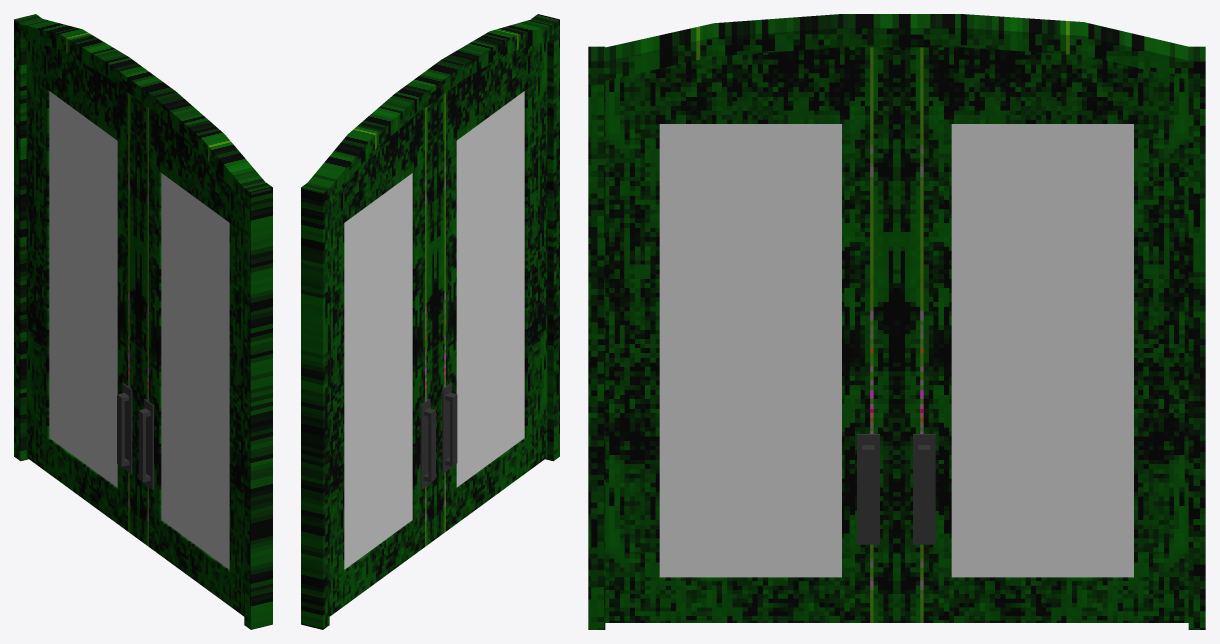
Rendered from Porta-Grande-Escola.glb.
3 renders of one model, left to right at view 1: azimuth 30°, elevation 25°; view 2: azimuth 150°, elevation 25°; view 3: azimuth 270°, elevation 25°, orthographic. The views are drawn at different scales.
Visible parts, largest first — view 1: Base-Porta-Grande, Base-Porta-Grande.001, Vidro-Porta-Grande.001, Vidro-Porta-Grande, Base-Porta-Grande.003; view 2: Base-Porta-Grande, Base-Porta-Grande.003, Vidro-Porta-Grande, Vidro-Porta-Grande.001, Base-Porta-Grande.001; view 3: Base-Porta-Grande.001, Vidro-Porta-Grande, Vidro-Porta-Grande.001, Base-Porta-Grande.003, Base-Porta-Grande.
Boxes of the visible parts, box(x1,y1,x2,y2) form: Base-Porta-Grande: box(14, 14, 272, 629); Base-Porta-Grande.001: box(26, 40, 138, 538); Vidro-Porta-Grande.001: box(161, 173, 229, 569); Vidro-Porta-Grande: box(49, 91, 117, 487); Base-Porta-Grande.003: box(138, 100, 244, 616); Base-Porta-Grande: box(301, 14, 559, 629); Base-Porta-Grande.003: box(435, 41, 547, 538); Vidro-Porta-Grande: box(344, 173, 412, 569); Vidro-Porta-Grande.001: box(456, 91, 524, 487); Base-Porta-Grande.001: box(329, 100, 435, 616); Base-Porta-Grande.001: box(897, 47, 1188, 622); Vidro-Porta-Grande: box(951, 124, 1133, 577); Vidro-Porta-Grande.001: box(659, 124, 841, 577); Base-Porta-Grande.003: box(605, 47, 896, 622); Base-Porta-Grande: box(588, 14, 1205, 629).
Size of the model in its own units: 0.6835 by 10.97 by 10.19.
Materials: 2 (1 with a texture image).
